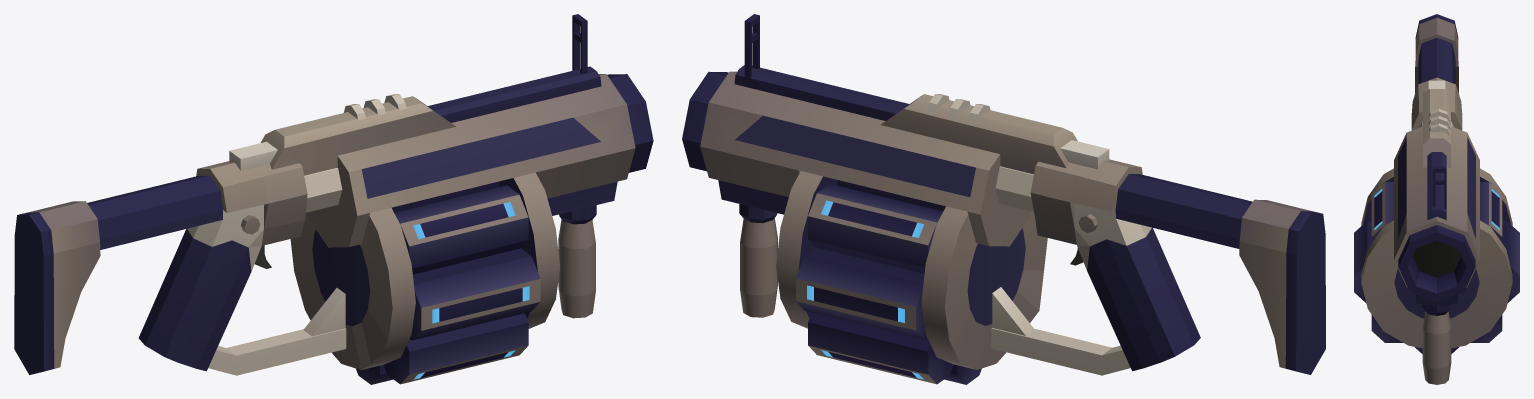
Rendered from GrenadeLauncher_A_mesh.fbx.
3 views of the same model, side by side, from view 1: azimuth 30°, elevation 25°; view 2: azimuth 150°, elevation 25°; view 3: azimuth 270°, elevation 25° (orthographic). The views are drawn at different scales.
Parts seen in each view (by area): view 1: GrenadeLauncher_A_mesh, Grenade_mesh_6, Grenade_mesh_2, Grenade_mesh_7, Grenade_mesh_3; view 2: GrenadeLauncher_A_mesh, Grenade_mesh_4, Grenade_mesh_8, Grenade_mesh_5, Grenade_mesh_3; view 3: GrenadeLauncher_A_mesh, Grenade_mesh_2, Grenade_mesh_8, Grenade_mesh_4, Grenade_mesh_6, Grenade_mesh_5, Grenade_mesh_7.
Boxes of the visible parts, x1,y1,x2,y2 form: GrenadeLauncher_A_mesh: (14,14,653,375); Grenade_mesh_6: (410,248,540,340); Grenade_mesh_2: (394,185,528,274); Grenade_mesh_7: (383,313,528,384); Grenade_mesh_3: (391,181,499,212); GrenadeLauncher_A_mesh: (682,14,1325,375); Grenade_mesh_4: (796,247,927,339); Grenade_mesh_8: (808,184,942,273); Grenade_mesh_5: (808,312,953,384); Grenade_mesh_3: (837,180,945,211); GrenadeLauncher_A_mesh: (1361,14,1512,384); Grenade_mesh_2: (1371,182,1393,242); Grenade_mesh_8: (1480,182,1502,242); Grenade_mesh_4: (1502,220,1519,302); Grenade_mesh_6: (1354,220,1371,302); Grenade_mesh_5: (1471,315,1502,342); Grenade_mesh_7: (1371,315,1402,342).
Bounding box in the file's own units: 63.49 × 31.21 × 20.72.
2 materials, 1 textured.
